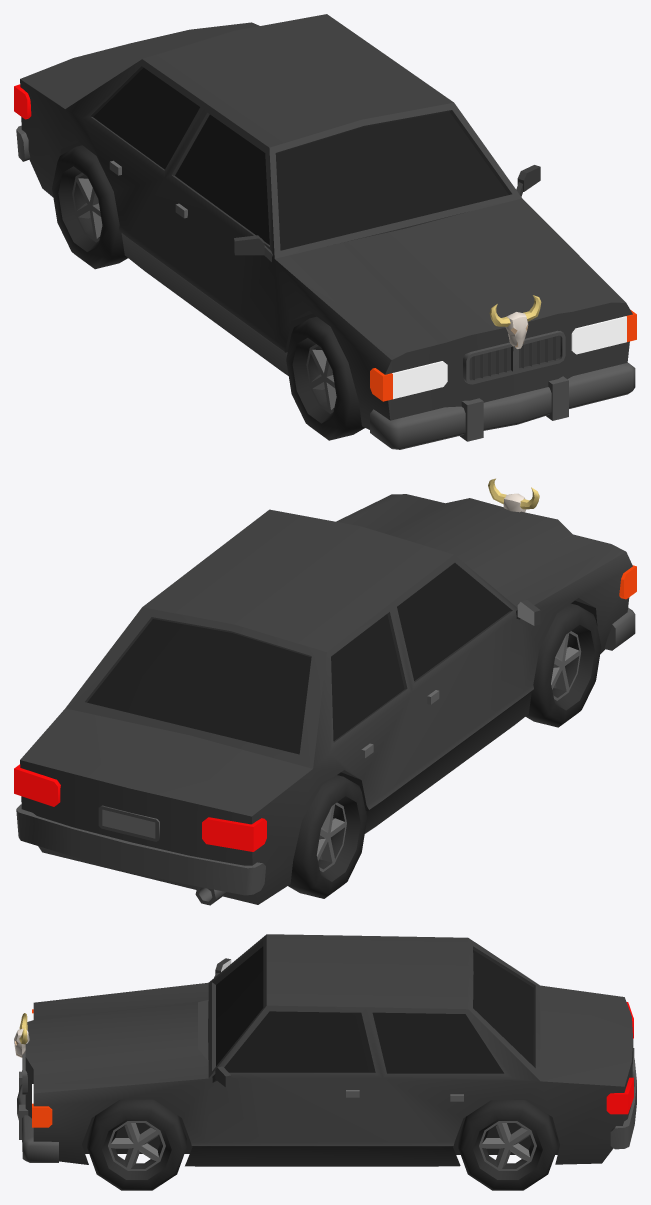
The model's file is sedan.glb.
The picture shows the model from 3 angles, top to bottom: view 1: azimuth 30°, elevation 25°; view 2: azimuth 150°, elevation 25°; view 3: azimuth 270°, elevation 25°; orthographic projection. The views are drawn at different scales.
Parts seen in each view (by area): view 1: sedan, wheels.013, wheels.012; view 2: sedan, wheels.012, wheels.013; view 3: sedan, wheels.047, wheels.014.
Part boxes in pixels (x1,y1,x2,y2): sedan: (14,14,636,449); wheels.013: (286,316,364,440); wheels.012: (52,145,127,269); sedan: (14,478,636,905); wheels.012: (288,775,367,898); wheels.013: (525,603,601,727); sedan: (14,934,636,1166); wheels.047: (87,1099,186,1190); wheels.014: (458,1100,557,1190).
Size of the model in its own units: 2.81 by 1.96 by 6.26.
Materials: 4 (4 with a texture image).
